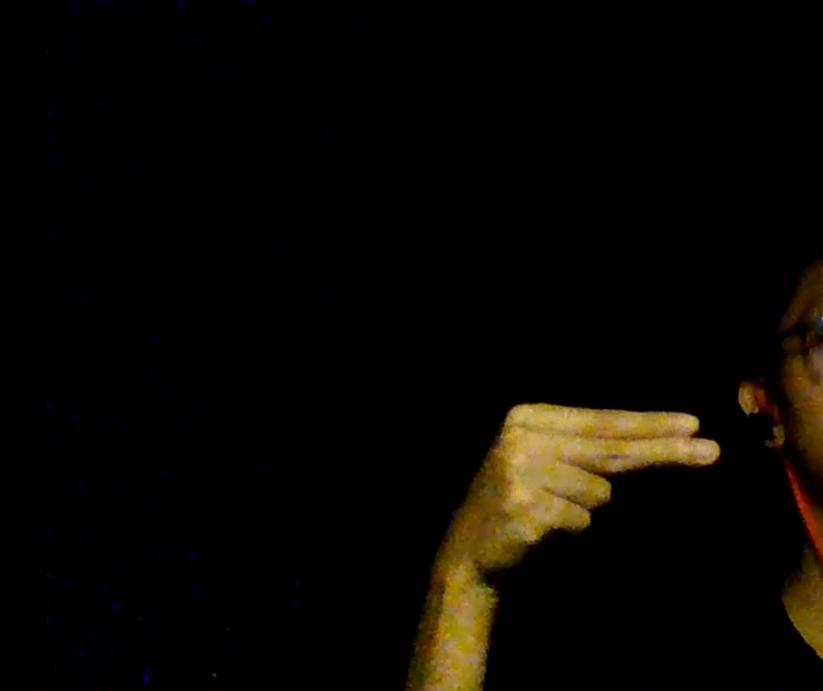h: (473, 402, 720, 568)
